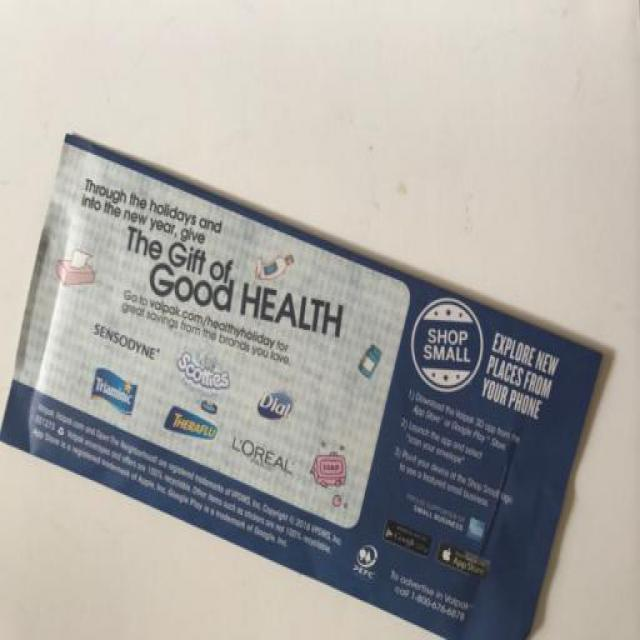paper: (1, 133, 606, 640)
